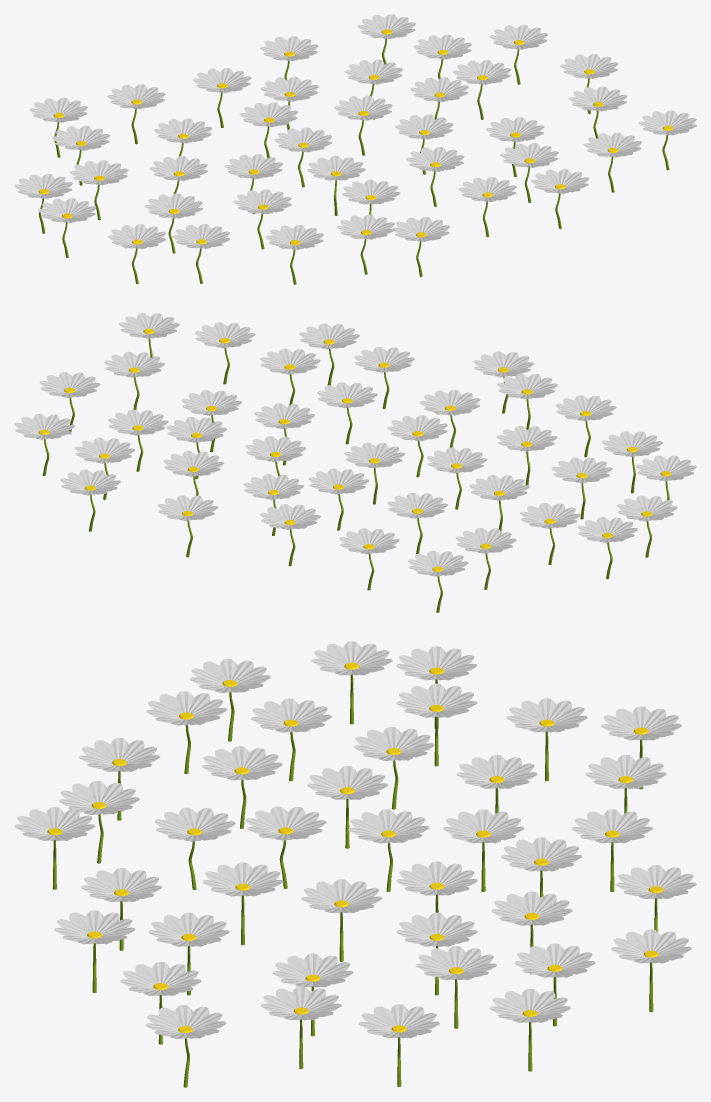
The model's file is BlenderFlower.fbx.
The picture shows the model from 3 angles, top to bottom: view 1: azimuth 30°, elevation 25°; view 2: azimuth 150°, elevation 25°; view 3: azimuth 270°, elevation 25°; orthographic projection. The views are drawn at different scales.
Parts seen in each view (by area): view 1: Circle.025; view 2: Circle.025; view 3: Circle.025.
Boxes of the visible parts, bbox=[...] form: Circle.025: bbox=[14, 14, 696, 284]; Circle.025: bbox=[14, 313, 696, 612]; Circle.025: bbox=[14, 641, 696, 1087].
Size of the model in its own units: 127 by 12.61 by 91.9.
